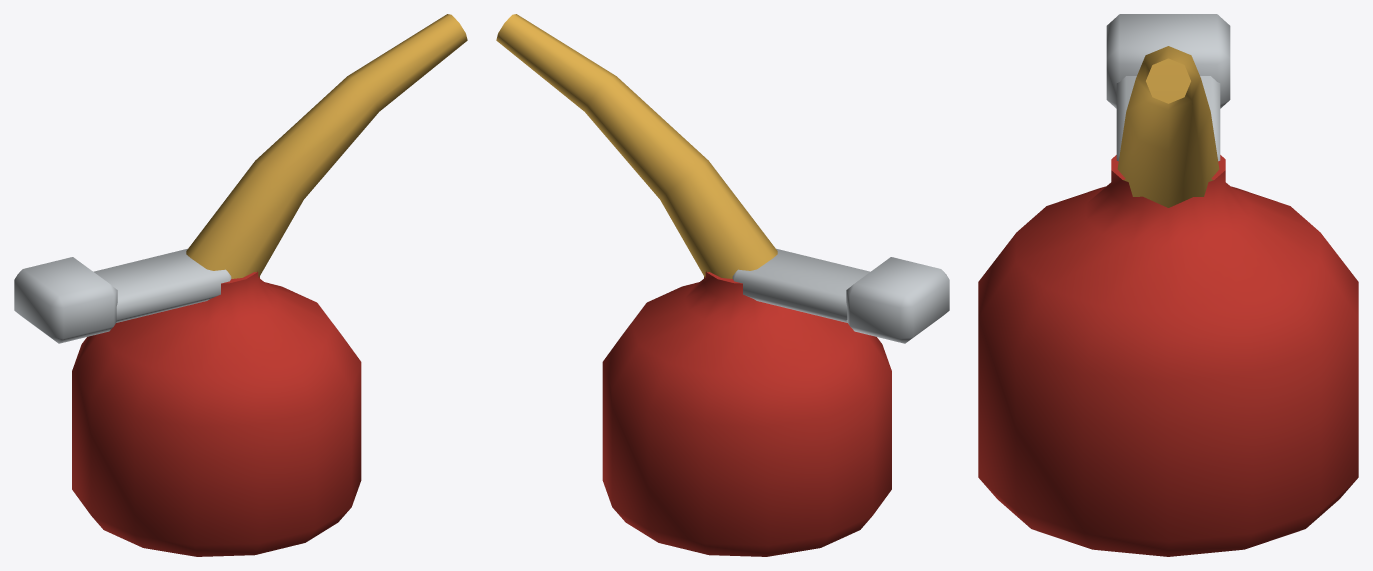
Rendered from SM_OilCan_Squirt_01.glb.
3 renders of one model, left to right at view 1: azimuth 30°, elevation 25°; view 2: azimuth 150°, elevation 25°; view 3: azimuth 270°, elevation 25°, orthographic. The views are drawn at different scales.
Parts seen in each view (by area): view 1: SM_OilCan_Squirt_01; view 2: SM_OilCan_Squirt_01; view 3: SM_OilCan_Squirt_01.
Boxes of the visible parts, x1,y1,x2,y2 form: SM_OilCan_Squirt_01: (14,14,467,556); SM_OilCan_Squirt_01: (496,14,949,556); SM_OilCan_Squirt_01: (978,14,1358,556).
Size of the model in its own units: 0.2058 by 0.1964 by 0.117.
1 material, 1 textured.
